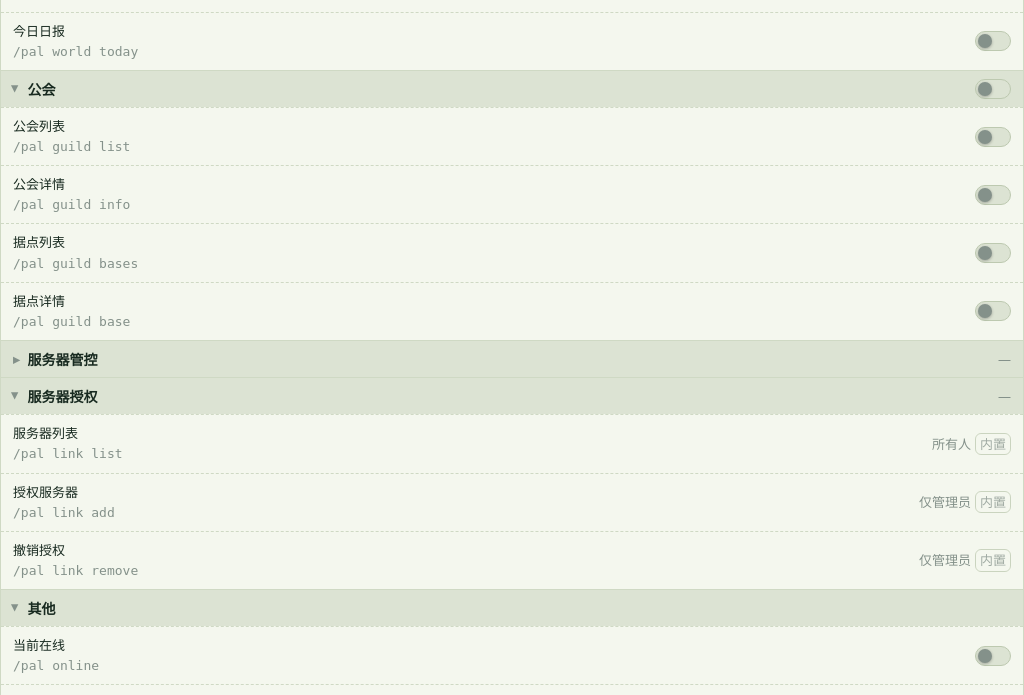
Test: admin_only 轴（权限章实例） › 行集：只列当前启用的命令（默认=恒开核心+events/today+guilds_bases 组）；开功能后对应组出现
(page scrolled)
What coordinates should you click on to do the following:
click the button with class "ct-gname" showing "▸ 服务器管控"
I would click on:
 (63, 360)
Its box is top-left (13, 349), bottom-right (879, 369).
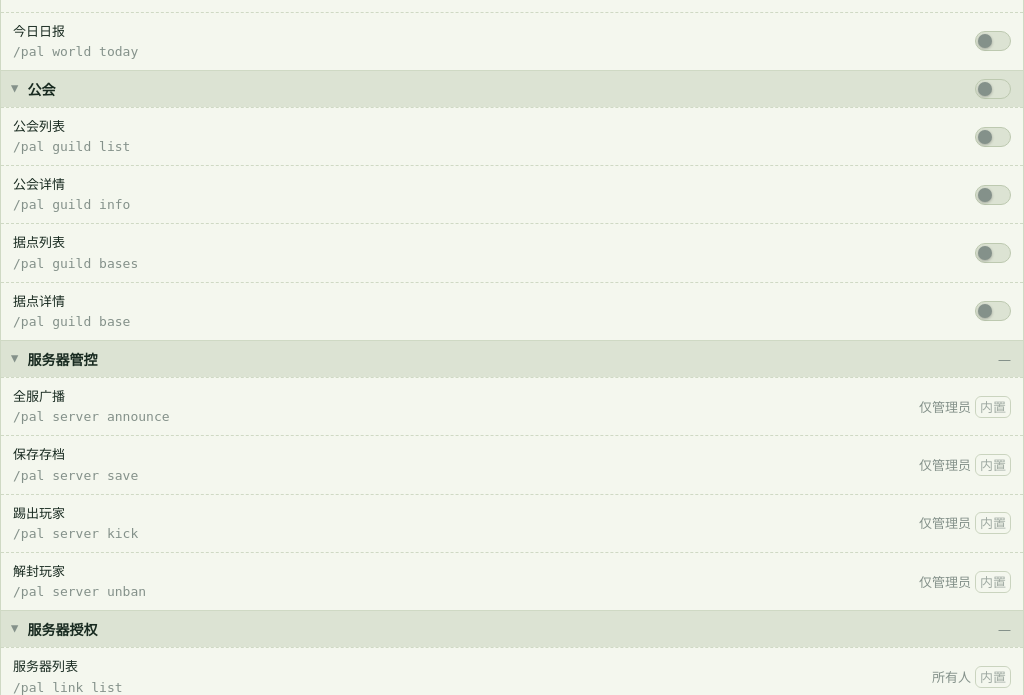
Check: the element with class "ct-lock" in the row of "/pal server kick" is shown, box top-left (919, 512), bottom-right (1011, 534)
Check: the element with class "ct-leaf" shows "仅管理员", box top-left (919, 514), bottom-right (971, 532)
